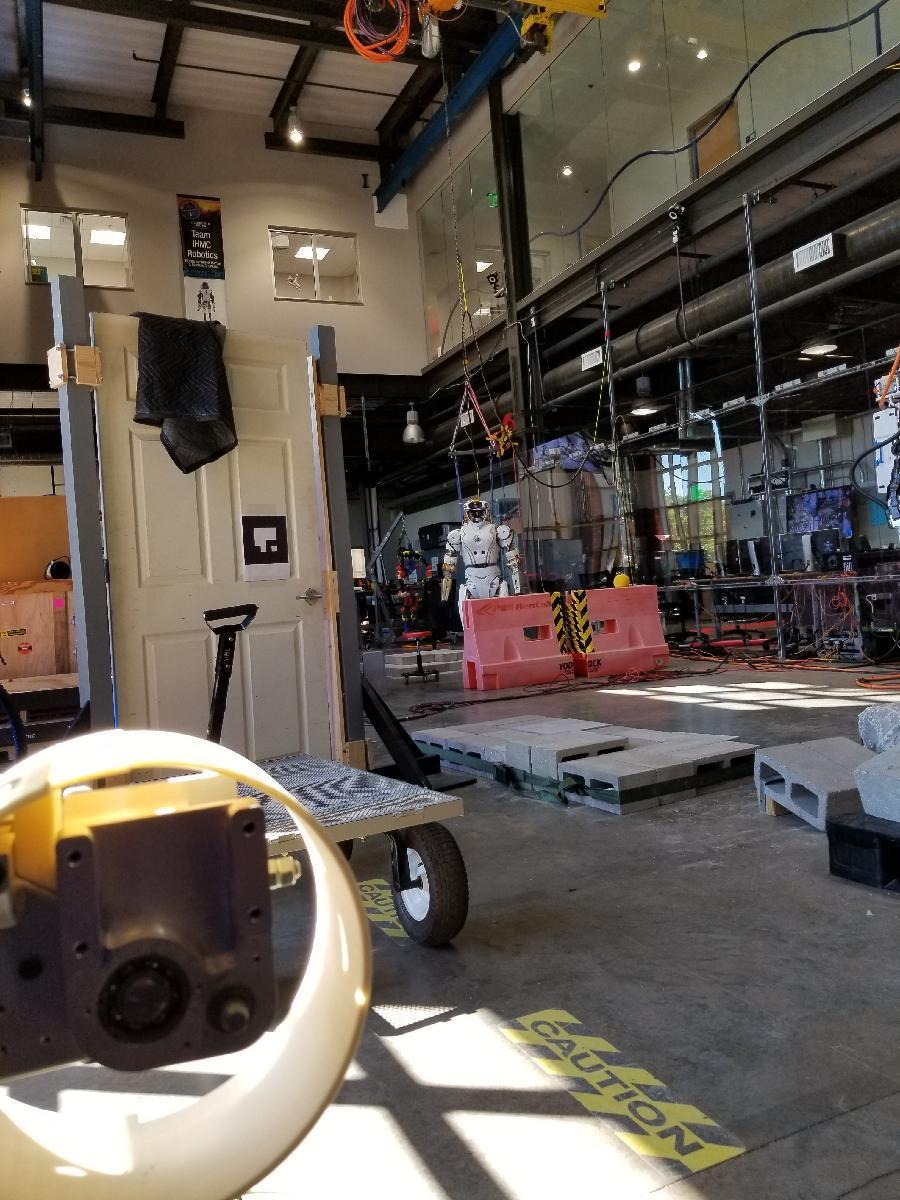door: (104, 320, 334, 790)
handle: (292, 587, 324, 609)
